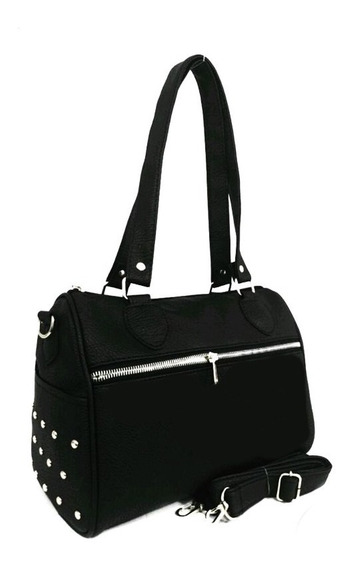cartera: (26, 56, 317, 538)
